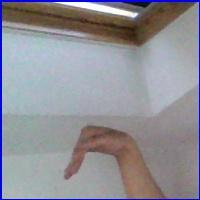del: (61, 124, 139, 188)
